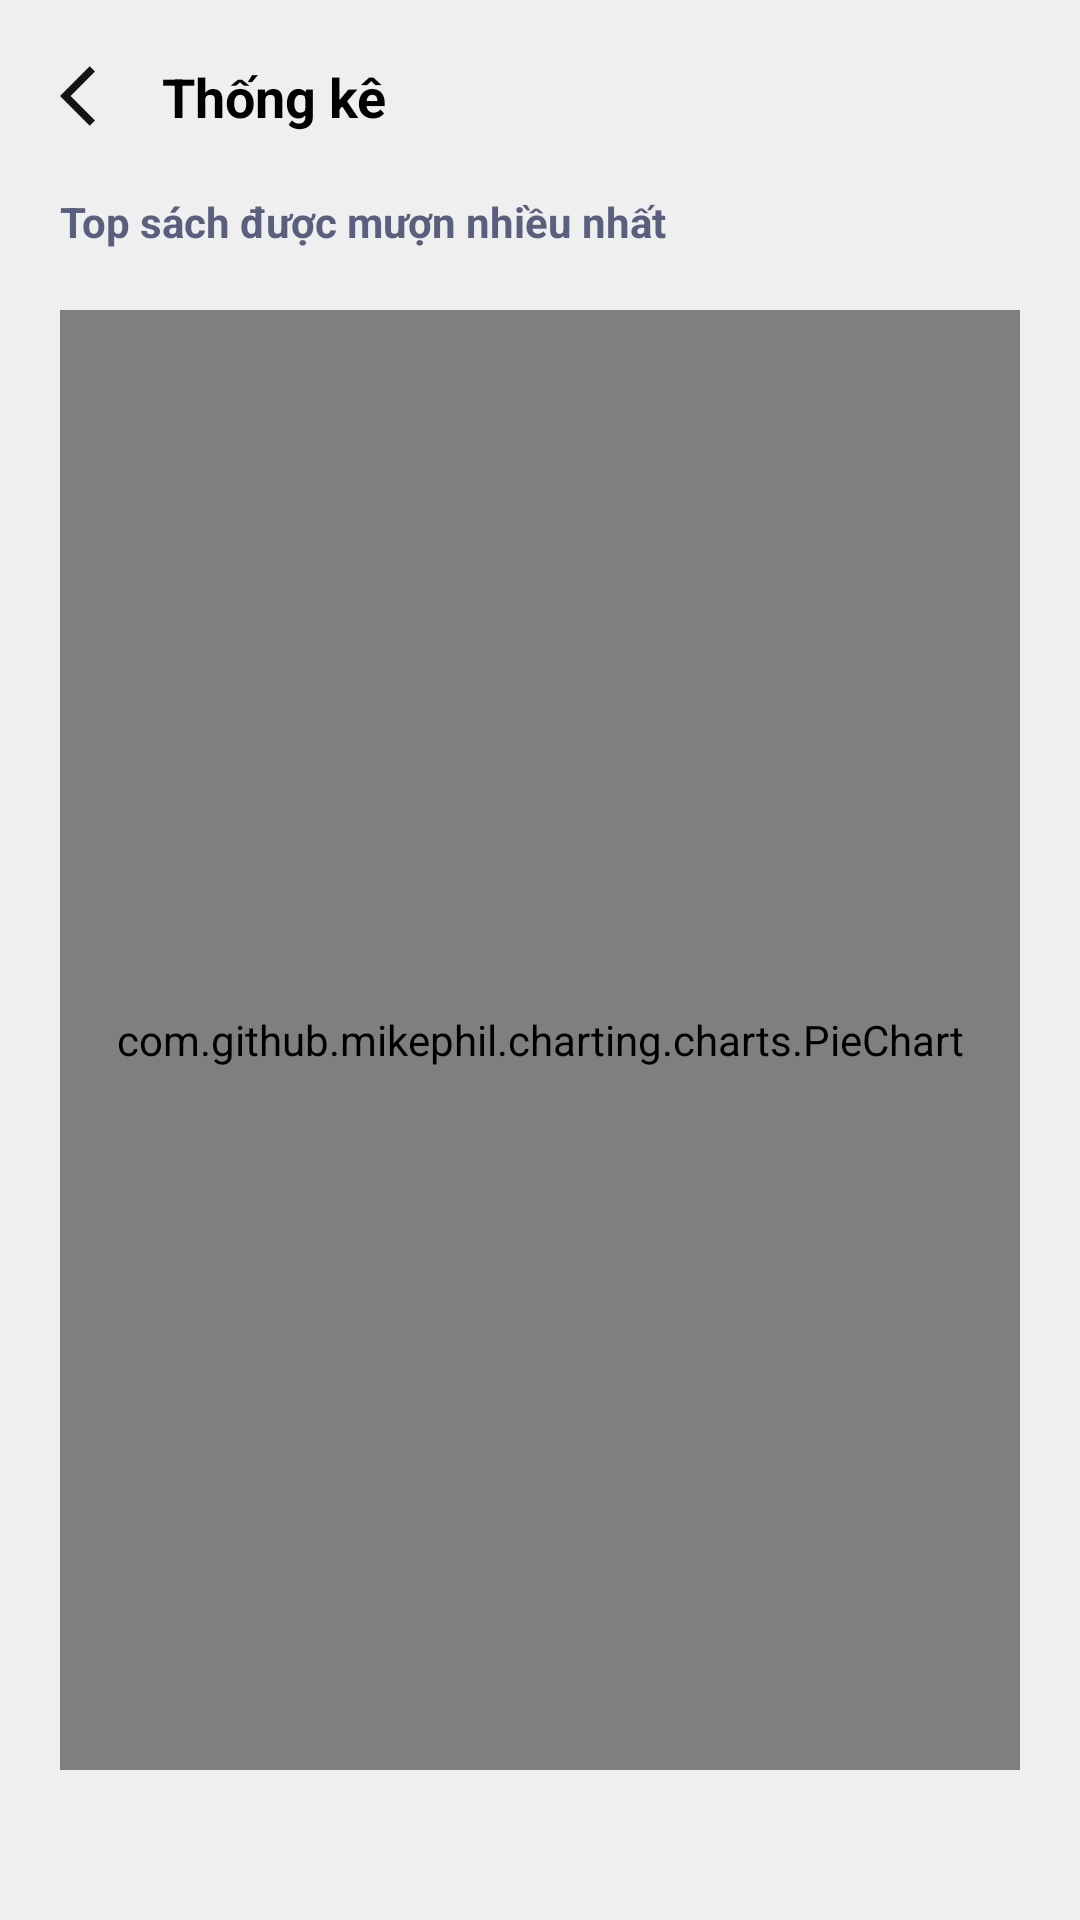

Icons on this 1080px x 1920px Android screen, each with the point to tap as (x,y):
back: (77,96)
